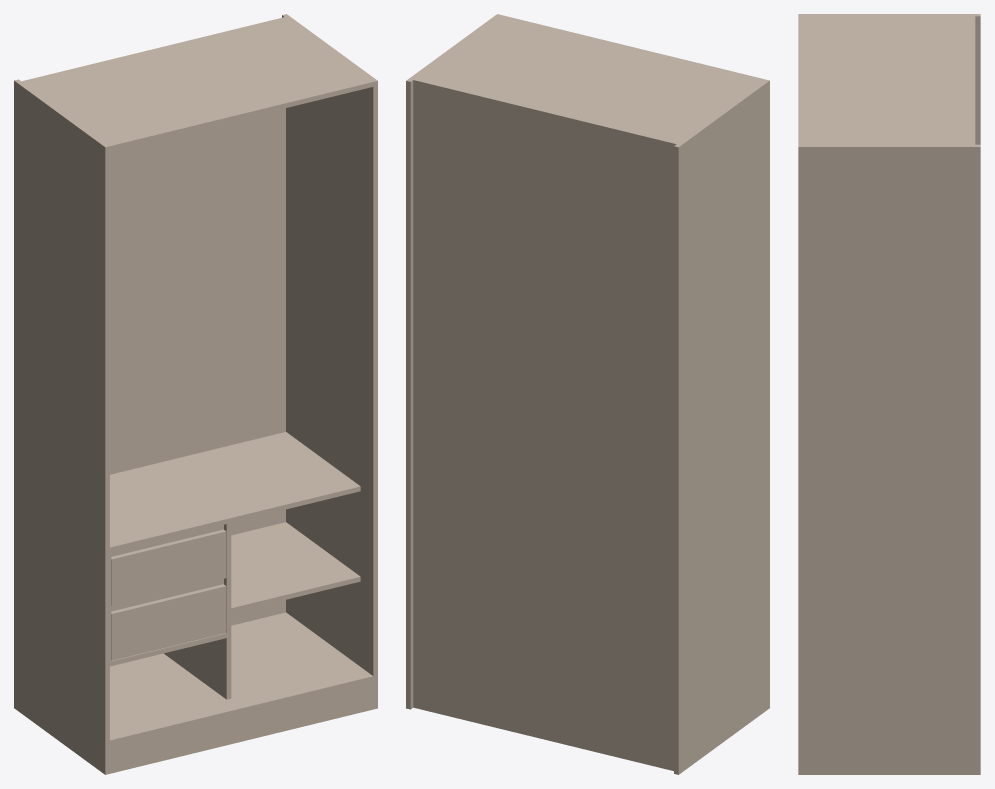
File: Modulo_01.glb
3 renders of one model, left to right at view 1: azimuth 30°, elevation 25°; view 2: azimuth 150°, elevation 25°; view 3: azimuth 270°, elevation 25°, orthographic.
Visible parts, largest first — view 1: Geom3D__2. [Lelf Side], Geom3D__4. [Back], Geom3D__3. [Right Side], Geom3D__5. [Top], Geom3D__8. [Div], Geom3D__6. [Bottom], Geom3D__1. [Toekick], Geom3D__34. [Shelf], Geom3D__17. [Face Drawer], Geom3D__19. [Face Drawer], Geom3D__9. [Div], Geom3D__7. [Bottom] (+1 smaller); view 2: Geom3D__4. [Back], Geom3D__2. [Lelf Side], Geom3D__5. [Top], Geom3D__3. [Right Side]; view 3: Geom3D__3. [Right Side], Geom3D__5. [Top], Geom3D__2. [Lelf Side], Geom3D__4. [Back].
Boxes of the visible parts, x1,y1,x2,y2 form: Geom3D__2. [Lelf Side]: (14,79,109,774); Geom3D__4. [Back]: (19,16,287,625); Geom3D__3. [Right Side]: (282,14,377,709); Geom3D__5. [Top]: (23,18,373,150); Geom3D__8. [Div]: (110,432,360,552); Geom3D__6. [Bottom]: (110,612,373,745); Geom3D__1. [Toekick]: (110,681,373,773); Geom3D__34. [Shelf]: (231,522,360,612); Geom3D__17. [Face Drawer]: (111,584,226,660); Geom3D__19. [Face Drawer]: (111,529,226,605); Geom3D__9. [Div]: (164,523,231,699); Geom3D__7. [Bottom]: (110,633,226,666); Geom3D__4. [Back]: (411,78,679,770); Geom3D__2. [Lelf Side]: (674,79,769,774); Geom3D__5. [Top]: (415,15,764,142); Geom3D__3. [Right Side]: (406,14,501,709); Geom3D__3. [Right Side]: (798,144,980,774); Geom3D__5. [Top]: (798,16,972,144); Geom3D__2. [Lelf Side]: (798,14,980,144); Geom3D__4. [Back]: (972,15,975,145).
Size of the model in its own units: 1 by 2.2 by 0.58.
